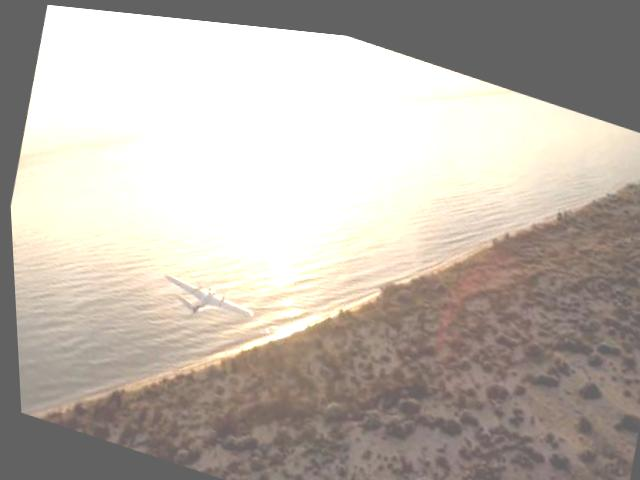uav: (153, 260, 257, 331)
